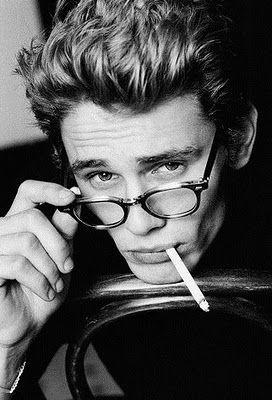cigarette: (165, 248, 209, 312)
